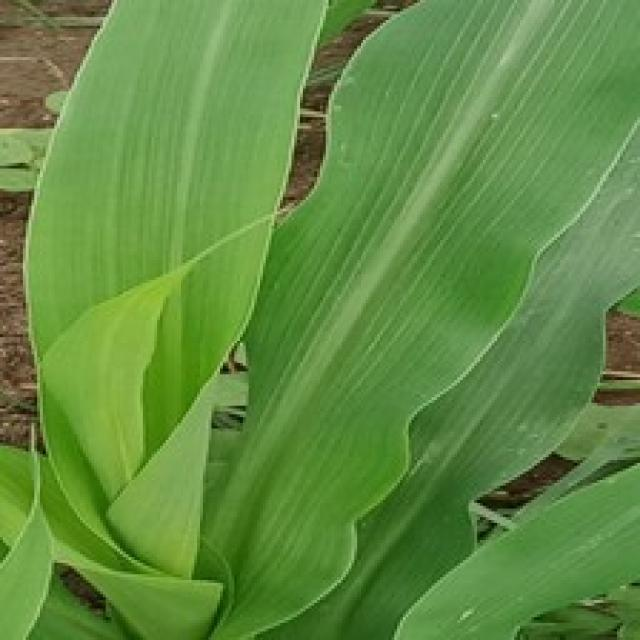Corn: (0, 0, 637, 637), (19, 0, 331, 574)
